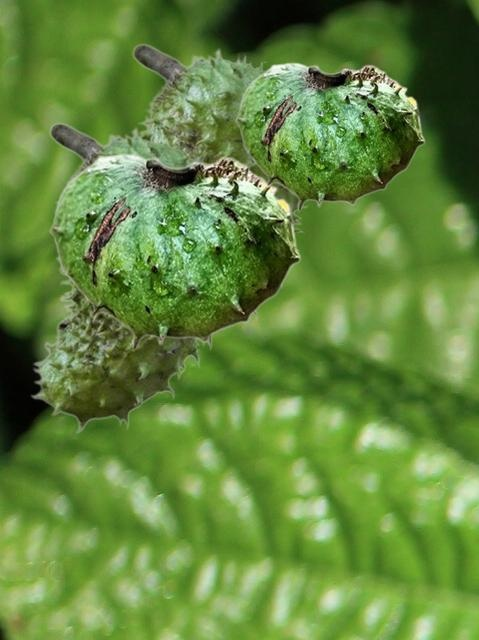guyabano: (29, 122, 212, 433), (131, 43, 310, 352), (49, 153, 300, 351), (235, 62, 424, 211)
